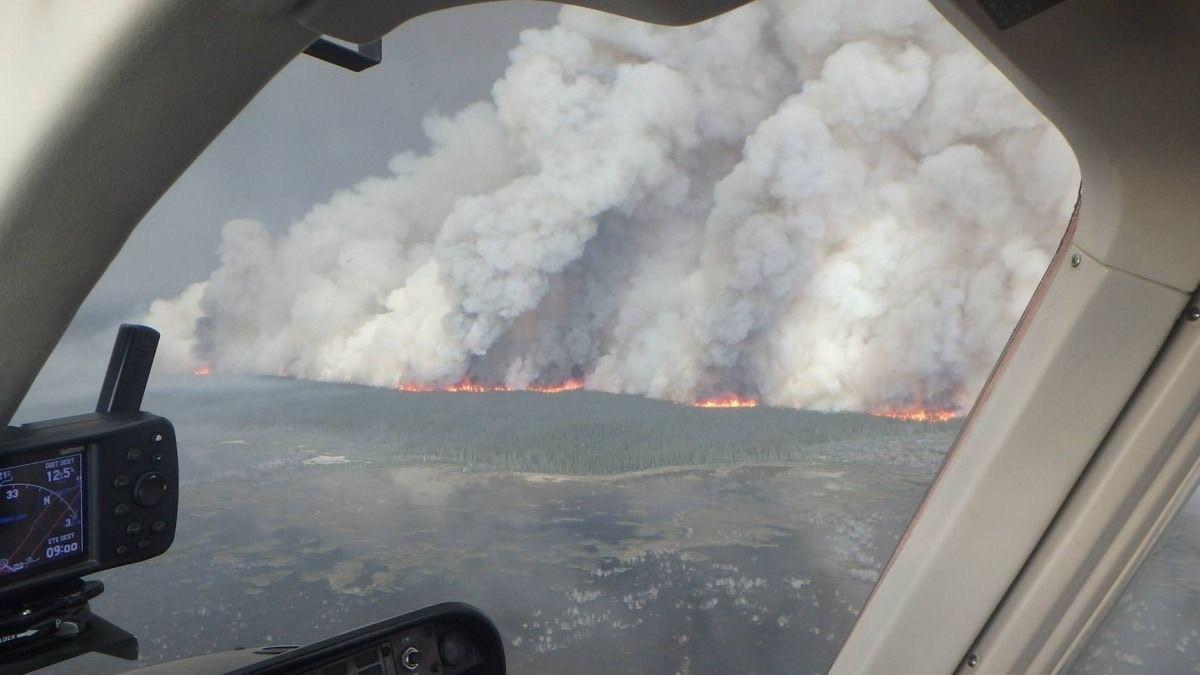fire: (394, 367, 581, 403), (867, 383, 957, 431), (692, 378, 755, 426)
smoke: (303, 69, 1007, 356), (582, 212, 693, 453), (763, 204, 864, 465)
